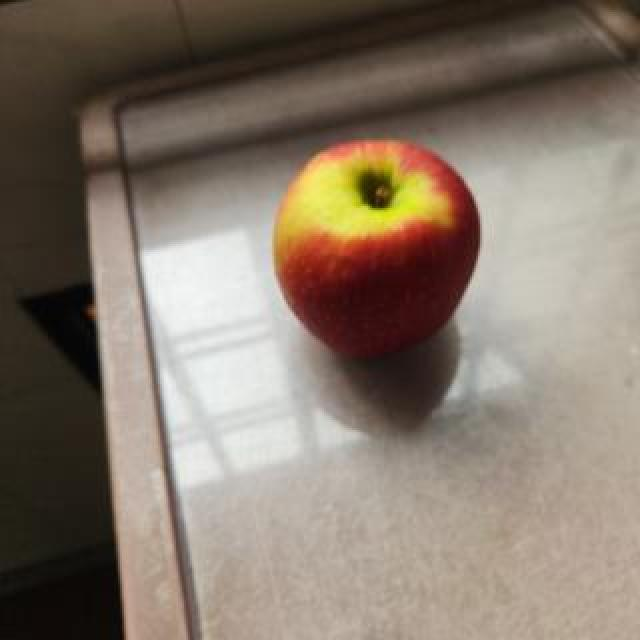Fresh Apple: (276, 142, 476, 338)
